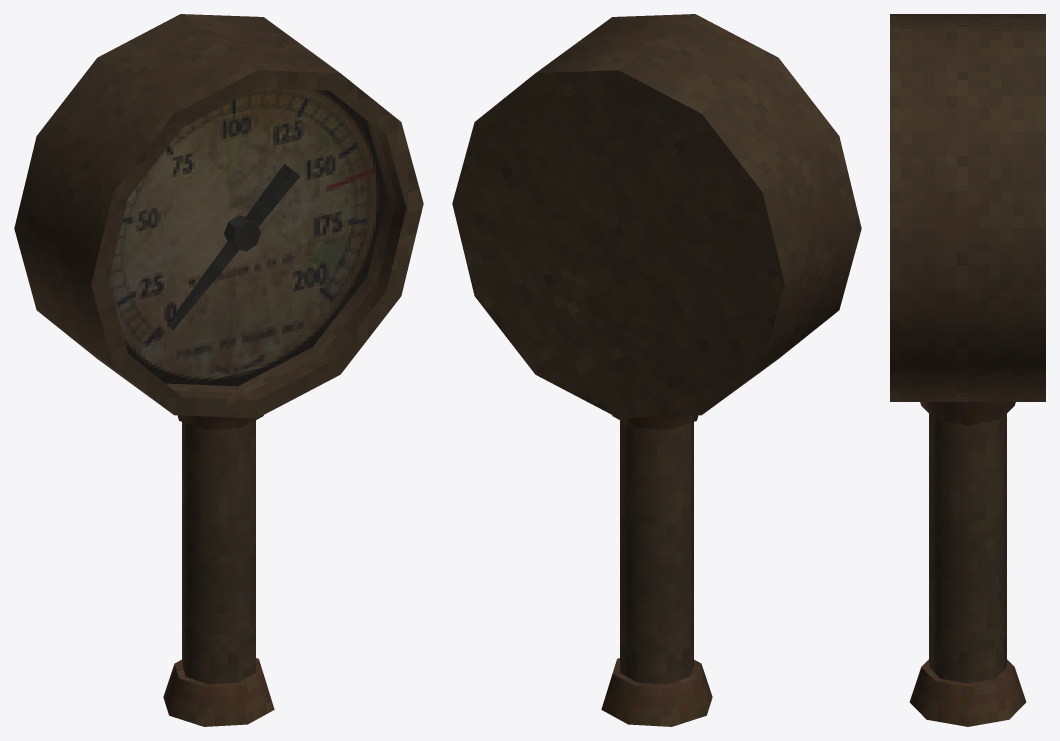
File: gauge_etx_2_1.glb
3 views of the same model, side by side, from view 1: azimuth 30°, elevation 25°; view 2: azimuth 150°, elevation 25°; view 3: azimuth 270°, elevation 25° (orthographic).
Visible parts, largest first — view 1: gauge_etx_2_1, gauge_pointer_etx_2_1_child; view 2: gauge_etx_2_1; view 3: gauge_etx_2_1.
Part boxes in pixels (left/top/right/bottom): gauge_etx_2_1: left=14, top=14, right=423, bottom=726; gauge_pointer_etx_2_1_child: left=167, top=164, right=300, bottom=330; gauge_etx_2_1: left=452, top=14, right=861, bottom=726; gauge_etx_2_1: left=890, top=14, right=1045, bottom=726.
Size of the model in its own units: 0.2 by 0.38 by 0.08.
Materials: 3 (3 with a texture image).
